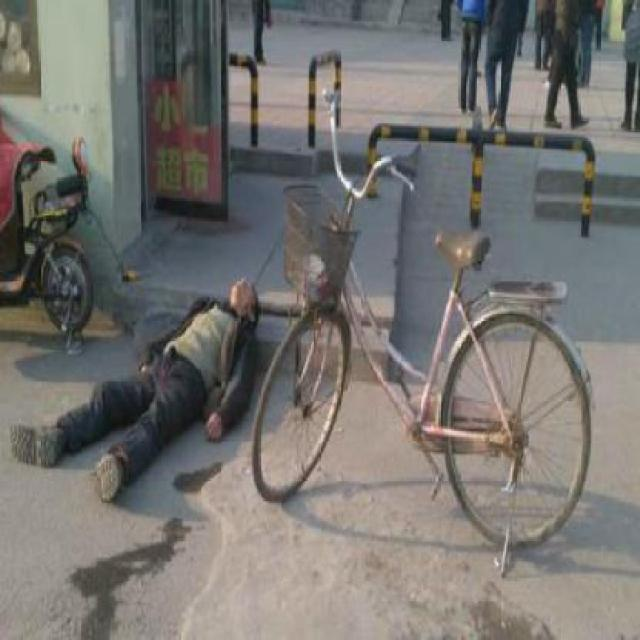fall: (0, 259, 263, 503)
